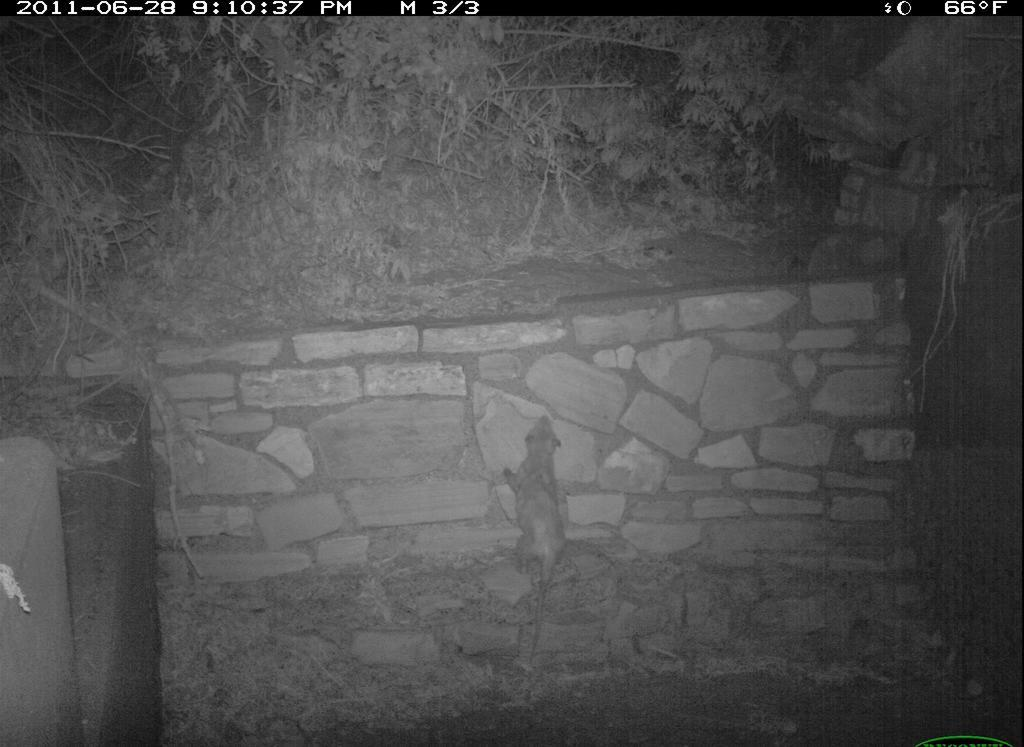opossum: (495, 408, 591, 669)
